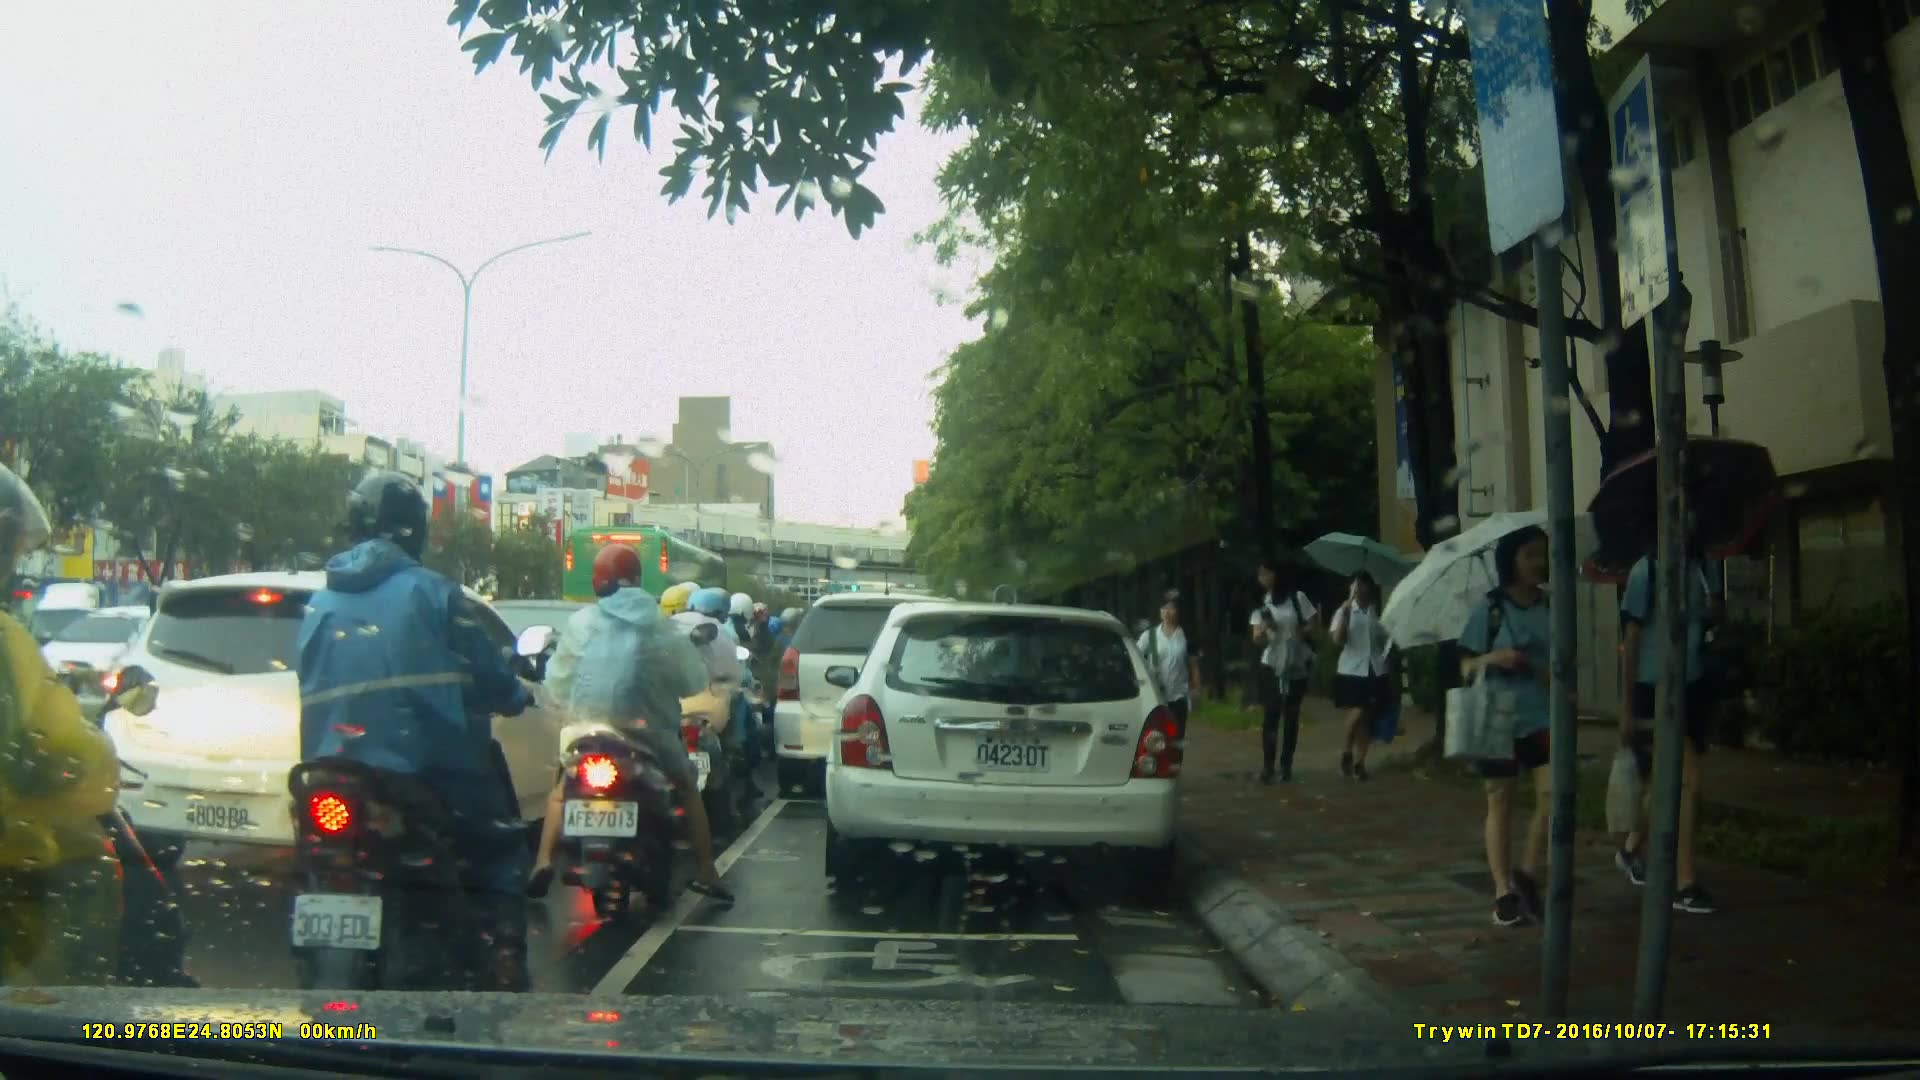pedestrian: (1455, 508, 1604, 942), (1604, 466, 1744, 913), (1318, 562, 1402, 781), (1244, 561, 1324, 784), (1128, 587, 1208, 782)
rider: (291, 474, 562, 1012), (1, 455, 181, 1080), (544, 545, 745, 923), (634, 579, 768, 839), (679, 594, 768, 786)
vehicle: (93, 569, 617, 883), (822, 604, 1187, 883), (774, 595, 995, 802), (574, 527, 751, 656), (45, 608, 197, 703)
